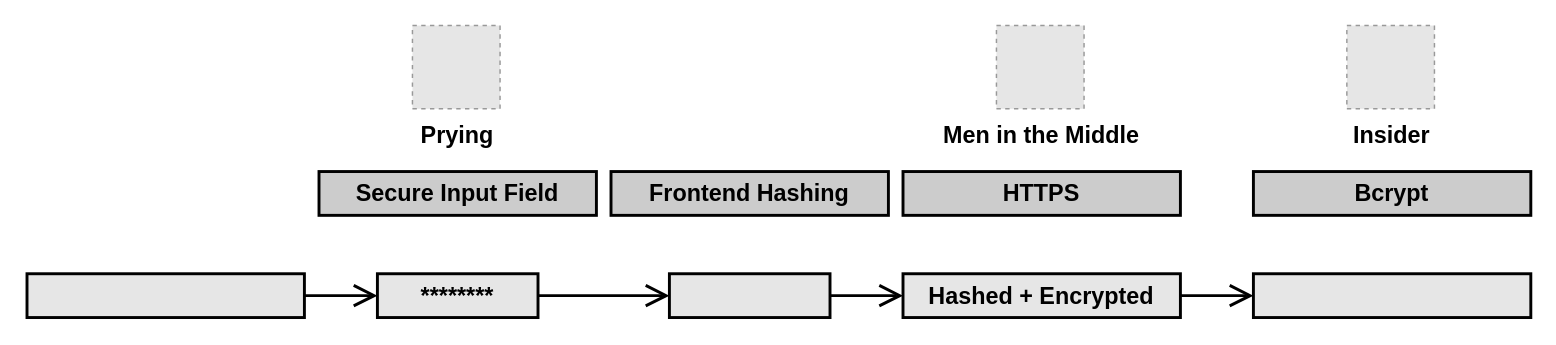
The diagram is 1556 pixels wide and 345 high, and some of its shapes have lost their labels. Grey dashed boxes stand in for pictures. The centre of each missing label's shape, as x and y in pixels:
"Hashed" belongs at point (749, 295).
"Pain Text Password" belongs at point (165, 295).
"Salted + Encrypted" belongs at point (1391, 295).
